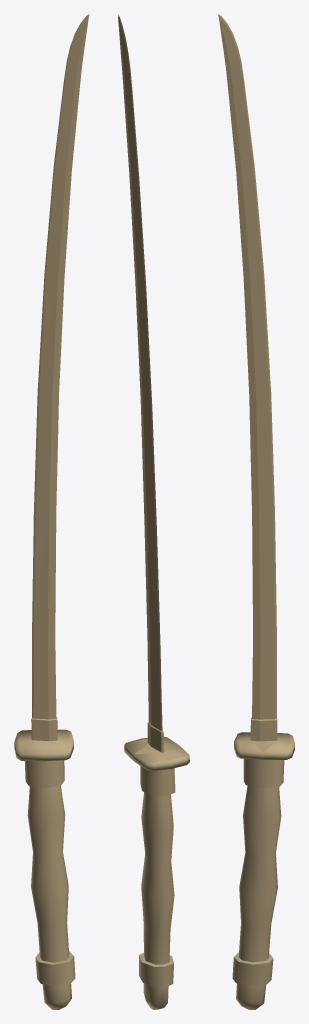
File: katana_div1.FBX
The picture shows the model from 3 angles, left to right: view 1: azimuth 90°, elevation 25°; view 2: azimuth 210°, elevation 25°; view 3: azimuth 270°, elevation 25°; orthographic projection. The views are drawn at different scales.
Visible parts, largest first — view 1: Object001, Plane006; view 2: Plane006, Object001; view 3: Object001, Plane006.
Boxes of the visible parts, x1=… form: Object001: x1=31, y1=14, x2=89, y2=741; Plane006: x1=14, y1=729, x2=75, y2=1009; Plane006: x1=124, y1=736, x2=189, y2=1009; Object001: x1=118, y1=14, x2=164, y2=752; Object001: x1=218, y1=14, x2=277, y2=741; Plane006: x1=232, y1=732, x2=294, y2=1009.
Bounding box in the file's own units: 7.23 × 10.31 × 149.
